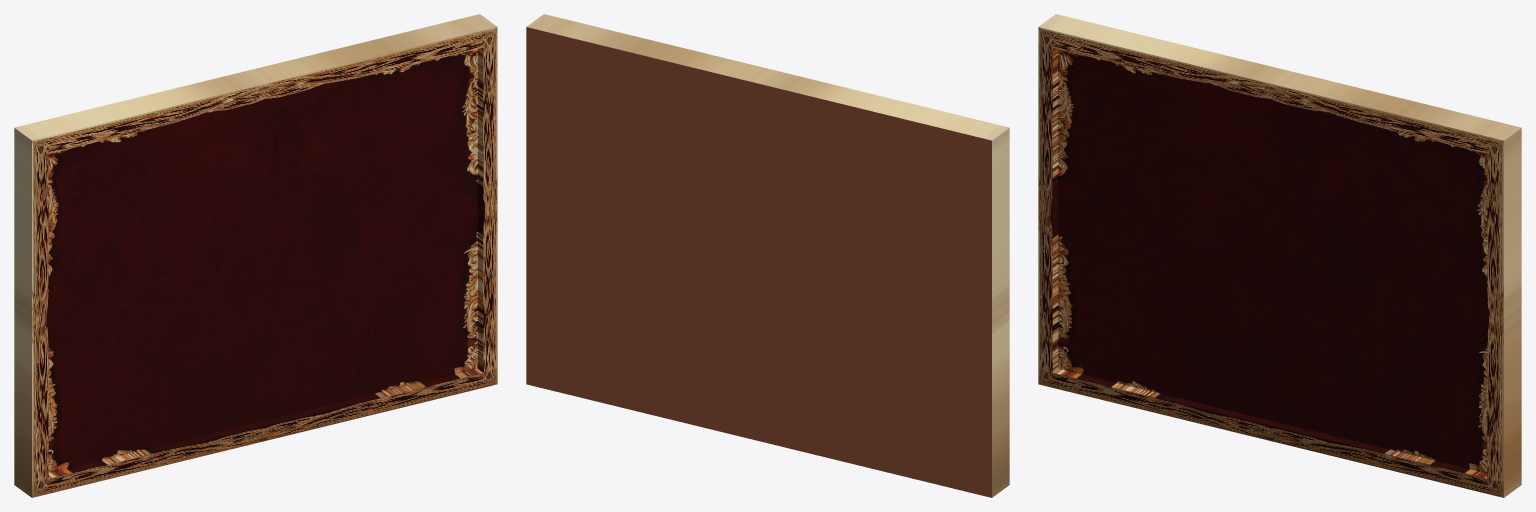
Rendered from panel_result.glb.
The picture shows the model from 3 angles, left to right: view 1: azimuth 30°, elevation 25°; view 2: azimuth 150°, elevation 25°; view 3: azimuth 330°, elevation 25°; orthographic projection.
Parts seen in each view (by area): view 1: panel_result; view 2: panel_result; view 3: panel_result.
Boxes of the visible parts, x1,y1,x2,y2 form: panel_result: (14, 14, 497, 497); panel_result: (526, 14, 1009, 497); panel_result: (1038, 14, 1521, 497).
Size of the model in its own units: 0.6 by 0.44 by 0.042.
Materials: 1 (1 with a texture image).
